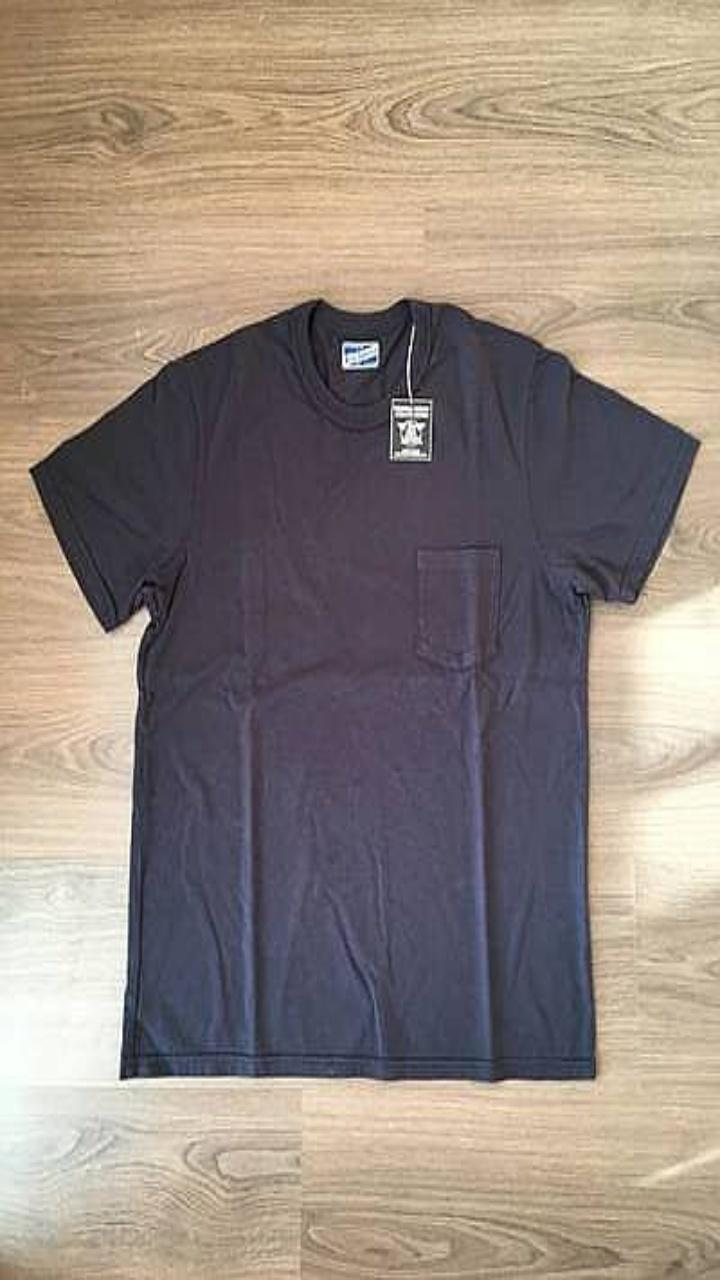T-Shirt: (30, 298, 699, 1080)
